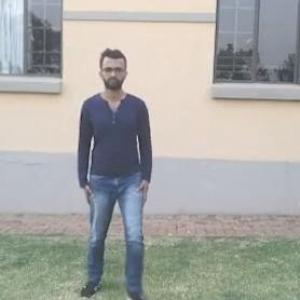follow: (82, 51, 153, 292)
